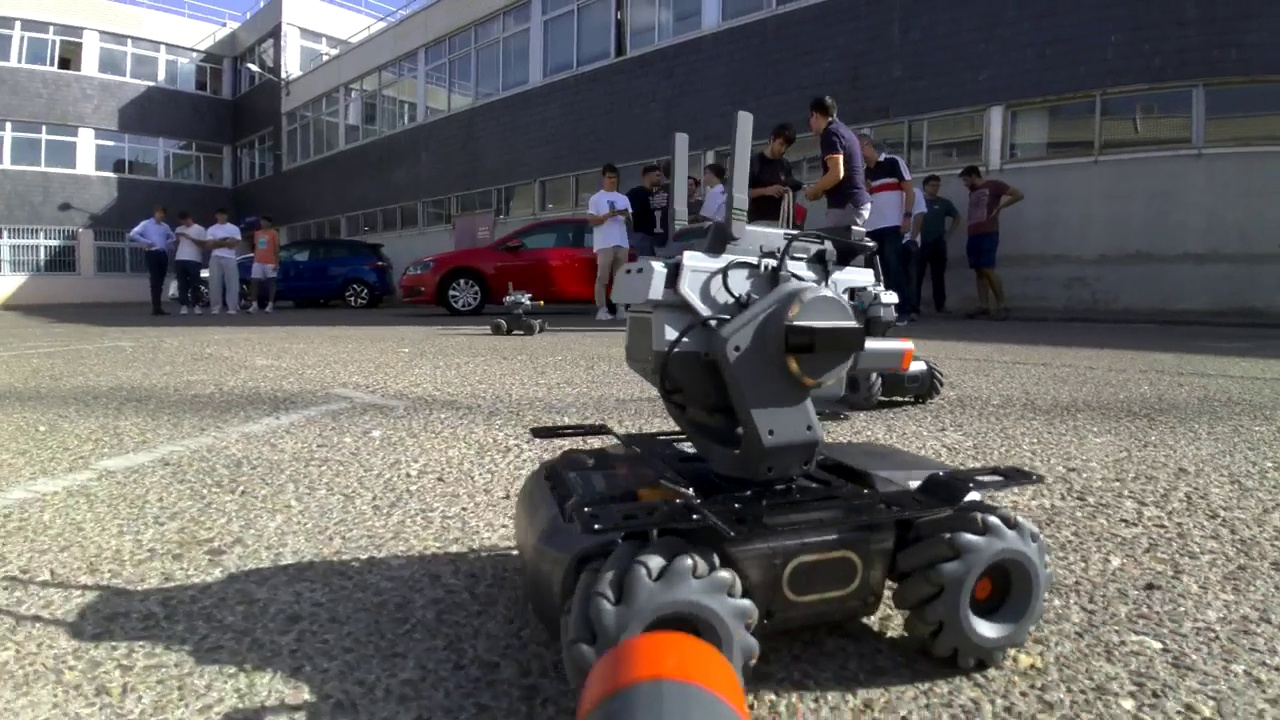robot: (513, 106, 1049, 708), (489, 280, 550, 337)
